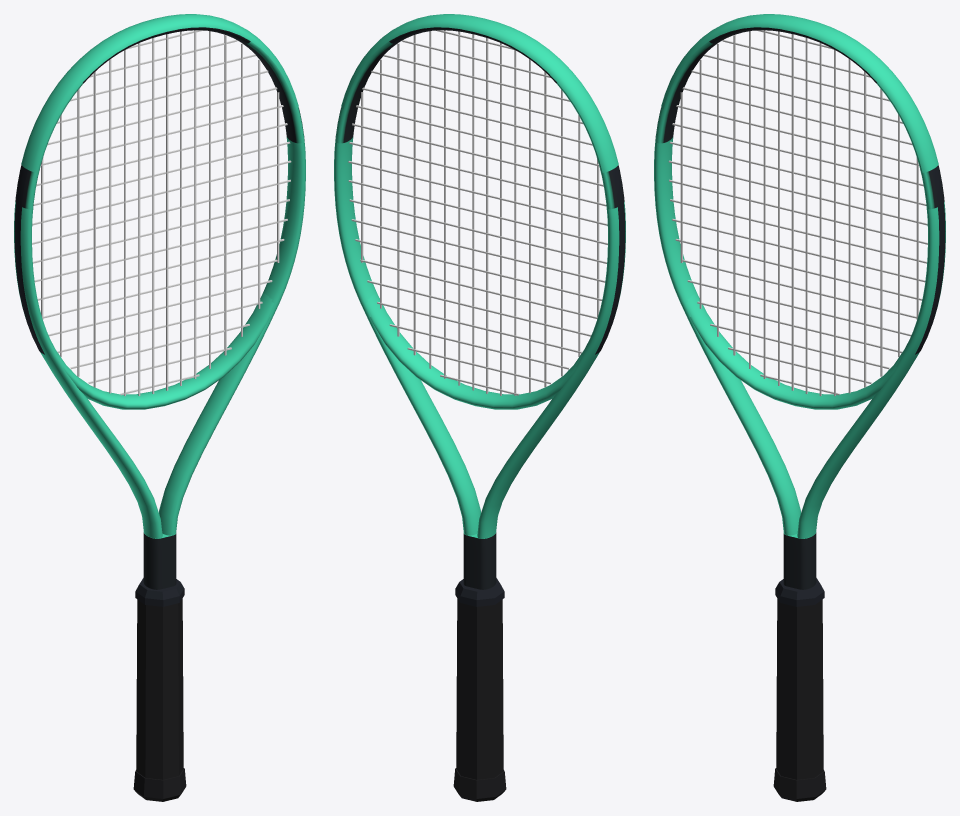
The model's file is head-boom-pro-2024.glb.
3 renders of one model, left to right at view 1: azimuth 30°, elevation 25°; view 2: azimuth 150°, elevation 25°; view 3: azimuth 330°, elevation 25°, orthographic.
Parts seen in each view (by area): view 1: frame, strings_mains, strings_crosses, grip, bumper, grommets, butt_cap, collar; view 2: frame, strings_mains, strings_crosses, grip, bumper, grommets, butt_cap, collar; view 3: frame, strings_mains, strings_crosses, grip, bumper, grommets, butt_cap, collar.
Part boxes in pixels (<box>): frame: <box>14,27,305,589</box>; strings_mains: <box>41,30,279,396</box>; strings_crosses: <box>32,30,291,395</box>; grip: <box>136,598,183,779</box>; bumper: <box>21,14,298,172</box>; grommets: <box>14,166,44,354</box>; butt_cap: <box>133,768,186,801</box>; collar: <box>135,578,184,606</box>; frame: <box>334,27,625,589</box>; strings_mains: <box>361,30,599,395</box>; strings_crosses: <box>348,30,607,395</box>; grip: <box>456,598,503,779</box>; bumper: <box>341,14,618,172</box>; grommets: <box>595,166,625,354</box>; butt_cap: <box>453,768,506,801</box>; collar: <box>455,578,504,606</box>; frame: <box>654,27,945,589</box>; strings_mains: <box>680,30,918,396</box>; strings_crosses: <box>668,30,927,395</box>; grip: <box>776,598,823,779</box>; bumper: <box>661,14,938,172</box>; grommets: <box>915,166,945,354</box>; butt_cap: <box>773,768,826,801</box>; collar: <box>775,578,824,606</box>.
Size of the model in its own units: 0.2662 by 0.6861 by 0.0396.
